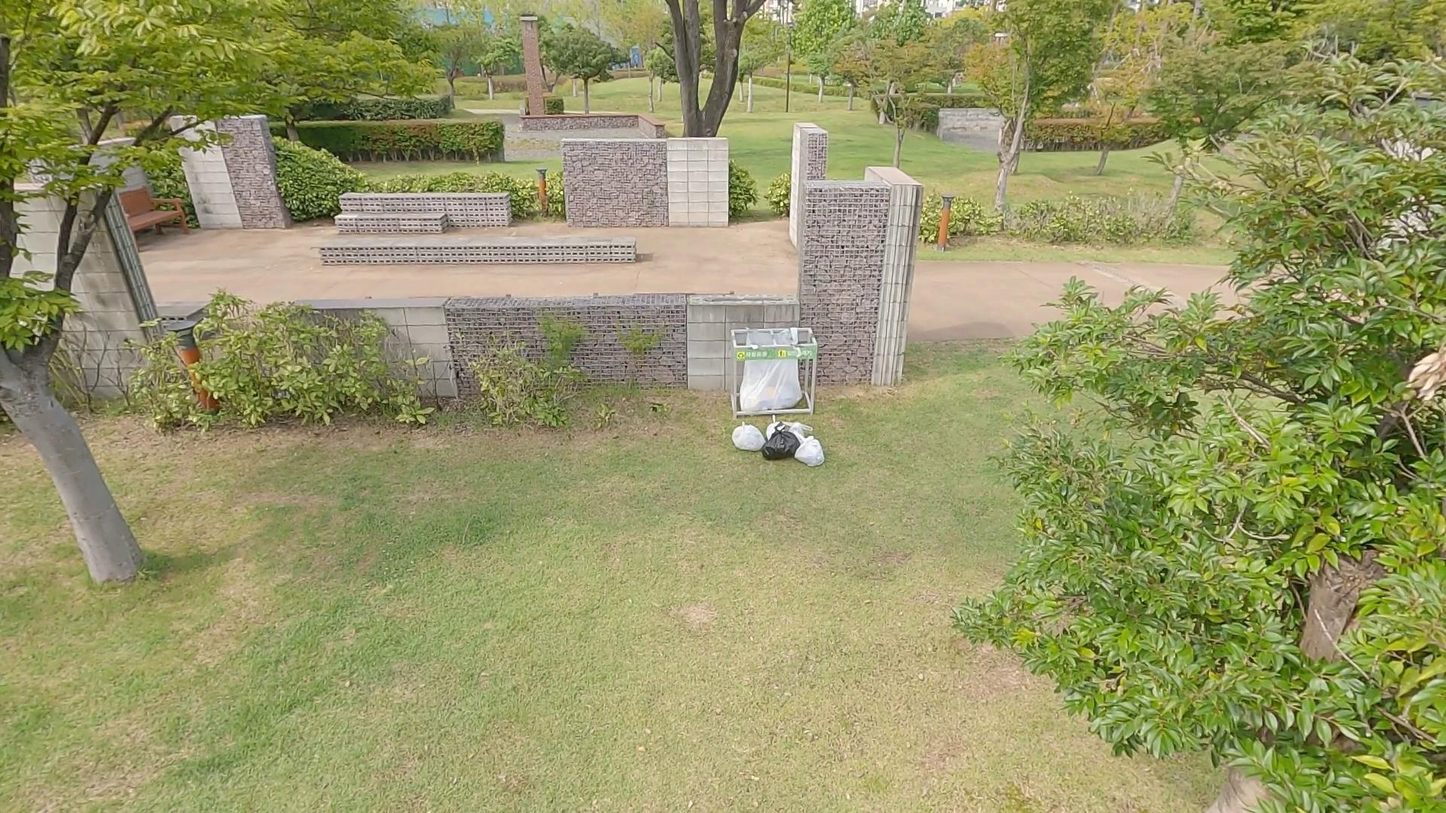trash: (761, 421, 801, 464), (761, 410, 810, 443), (731, 416, 767, 459), (794, 433, 828, 468)
